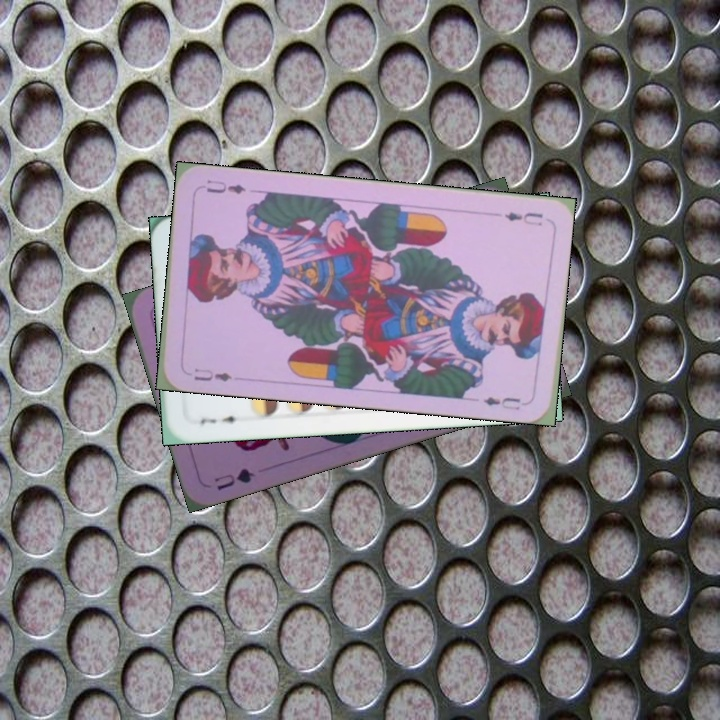E7: (196, 411, 246, 427)
EU: (500, 208, 546, 229), (190, 364, 234, 384)
GU: (210, 464, 258, 493)
